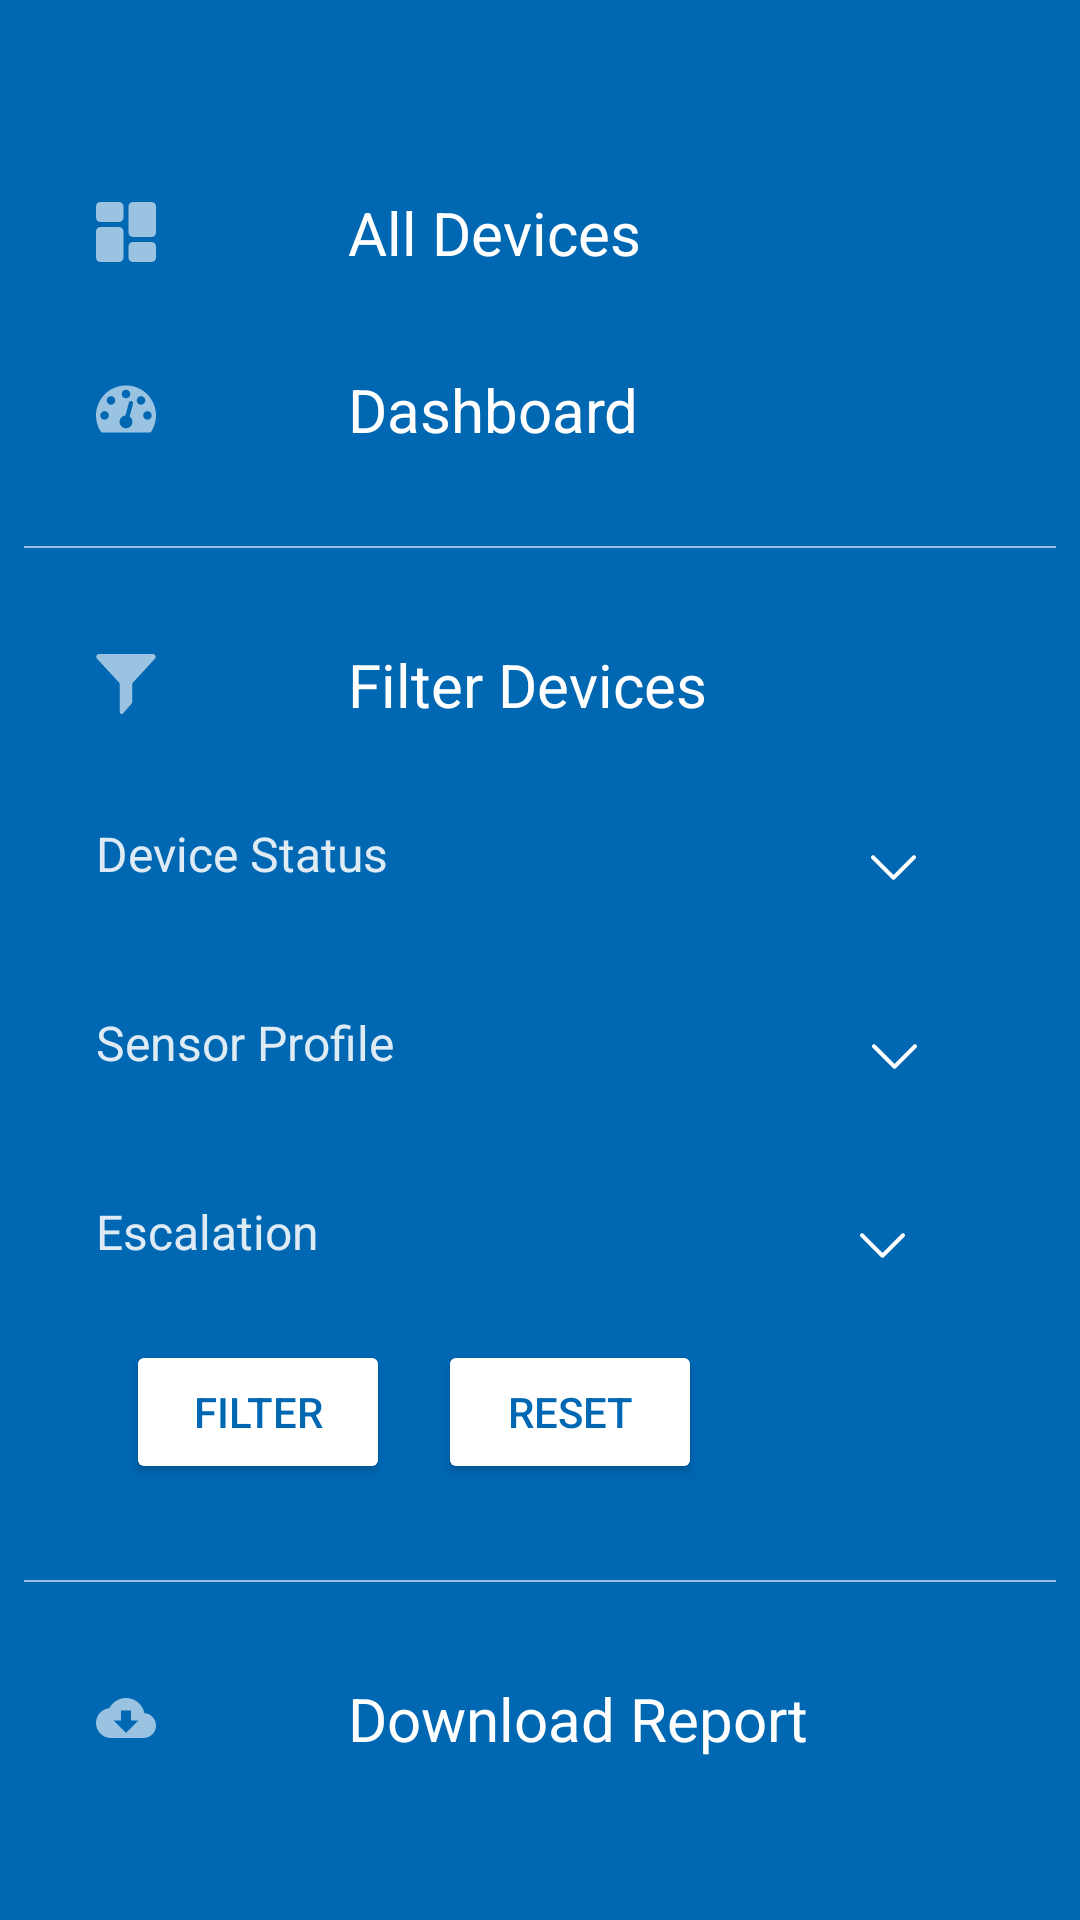

Icon bounding boxes for this 1080×1920 phone screenshot, format (x1, y1, x2, y2):
down arrow: (871, 855, 916, 880), (872, 1044, 917, 1069), (860, 1233, 905, 1258)
